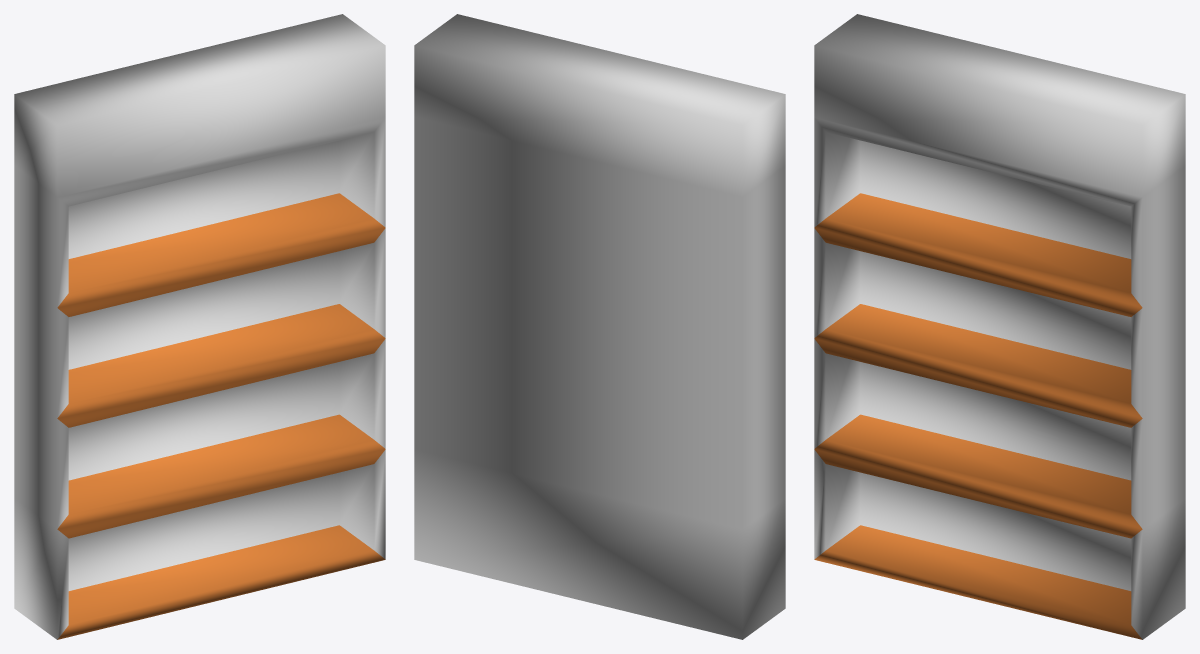
File: estanteria.fbx
3 views of the same model, side by side, from view 1: azimuth 30°, elevation 25°; view 2: azimuth 150°, elevation 25°; view 3: azimuth 330°, elevation 25° (orthographic).
Parts seen in each view (by area): view 1: estante; view 2: estante; view 3: estante.
Boxes of the visible parts, x1=… form: estante: x1=14, y1=14, x2=385, y2=639; estante: x1=414, y1=14, x2=785, y2=639; estante: x1=814, y1=14, x2=1185, y2=639.
Size of the model in its own units: 25.37 by 37.95 by 5.76.
